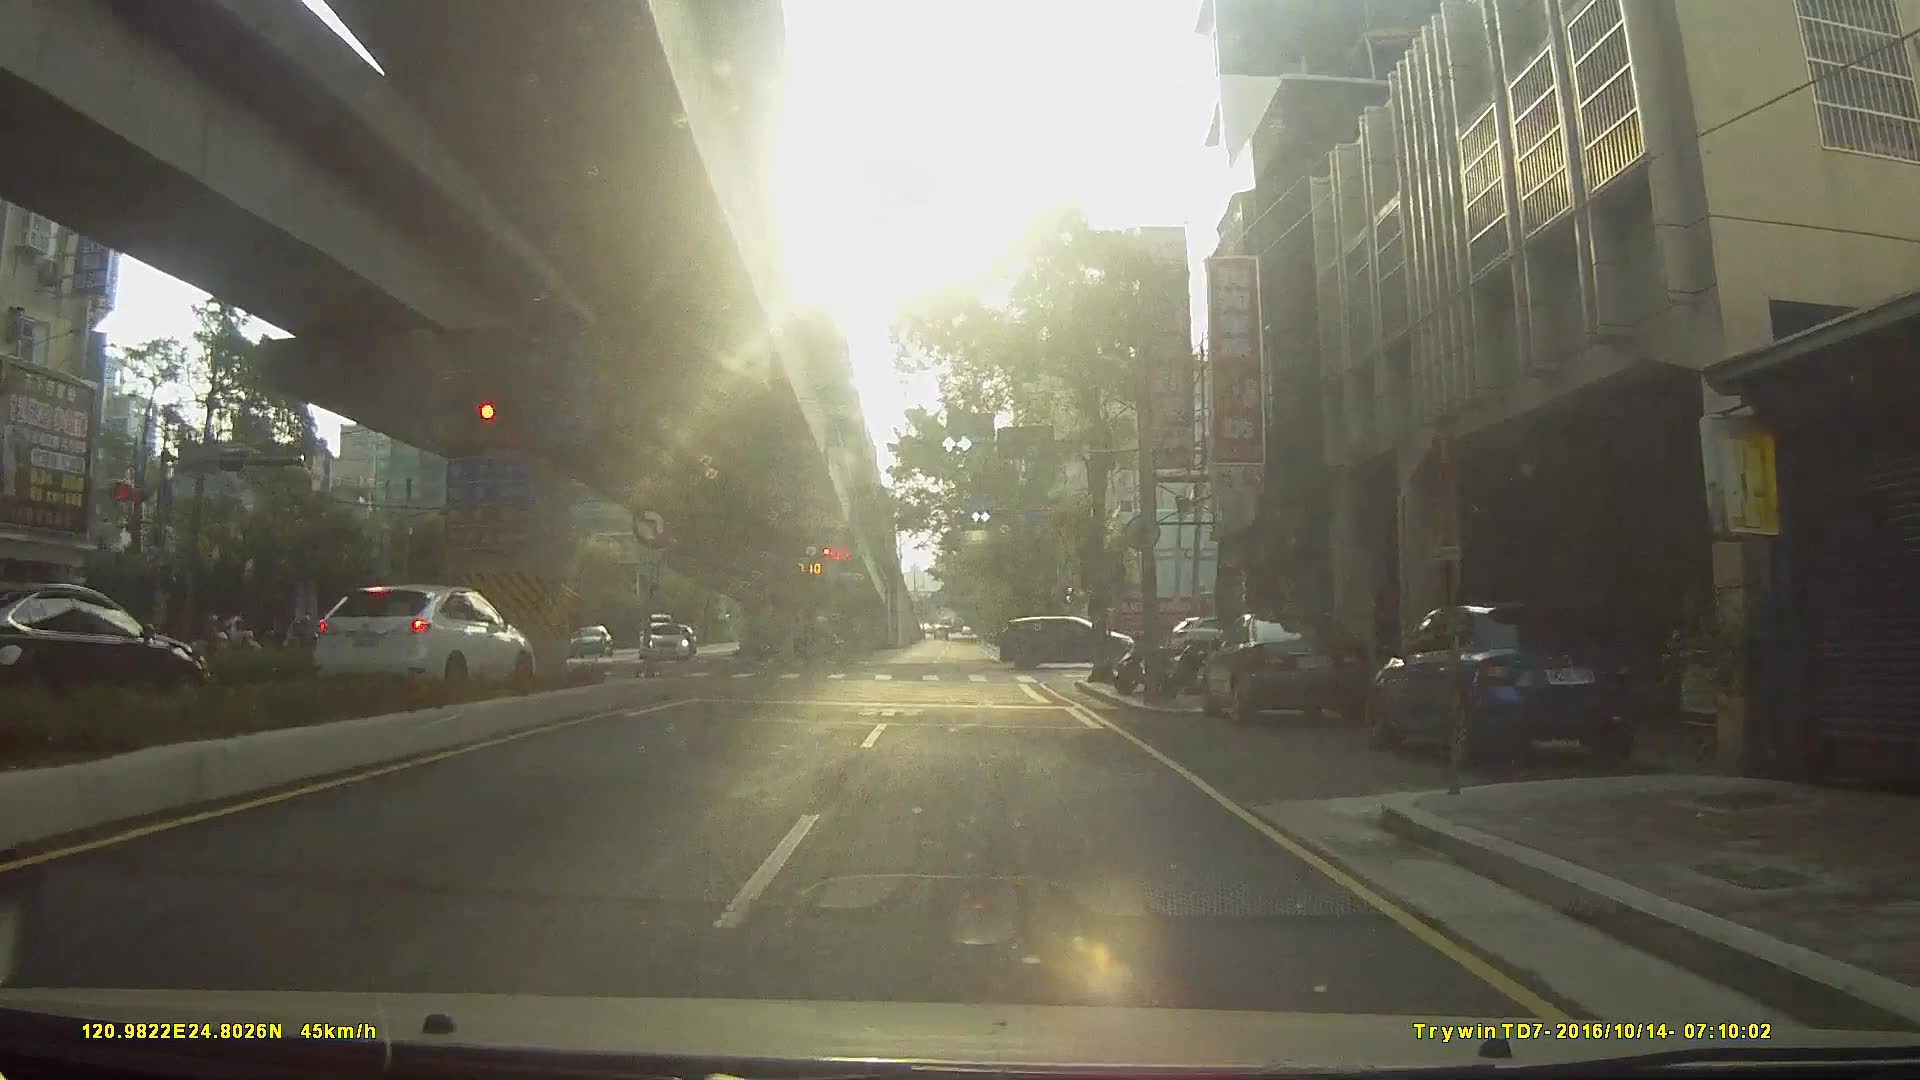vehicle: (1379, 597, 1662, 775), (1, 587, 218, 731), (287, 585, 546, 704), (1204, 607, 1382, 727), (1002, 613, 1155, 669), (638, 618, 688, 659), (560, 622, 611, 655)
